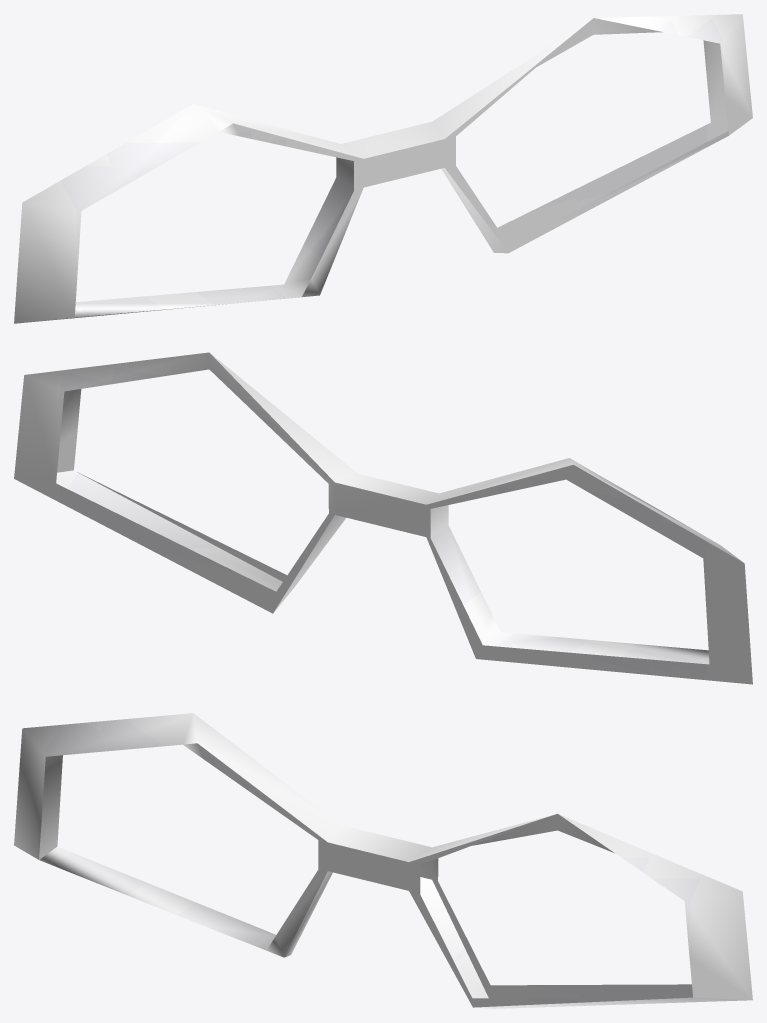
Rendered from Glass2.FBX.
3 renders of one model, top to bottom at view 1: azimuth 30°, elevation 25°; view 2: azimuth 150°, elevation 25°; view 3: azimuth 330°, elevation 25°, orthographic.
Visible parts, largest first — view 1: Box001; view 2: Box001; view 3: Box001.
Boxes of the visible parts, bbox=[...] form: Box001: bbox=[14, 14, 752, 323]; Box001: bbox=[14, 352, 752, 684]; Box001: bbox=[14, 713, 752, 1008].
Size of the model in its own units: 20.17 by 5.95 by 0.8499.
